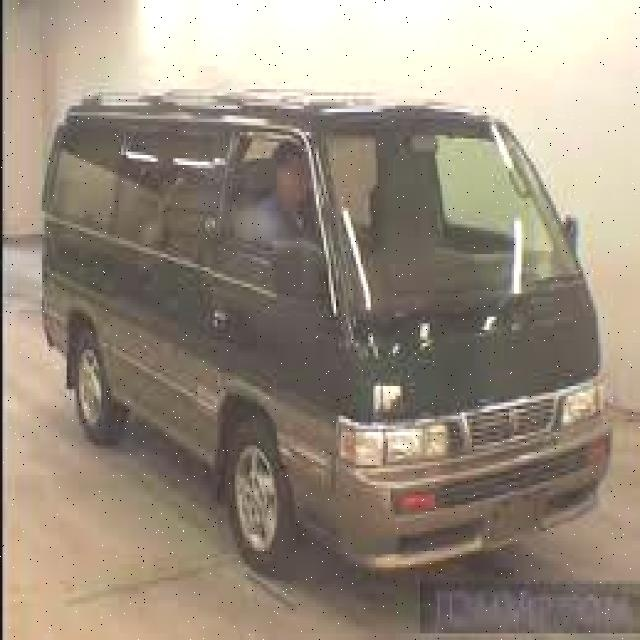Van: (40, 82, 622, 580)
